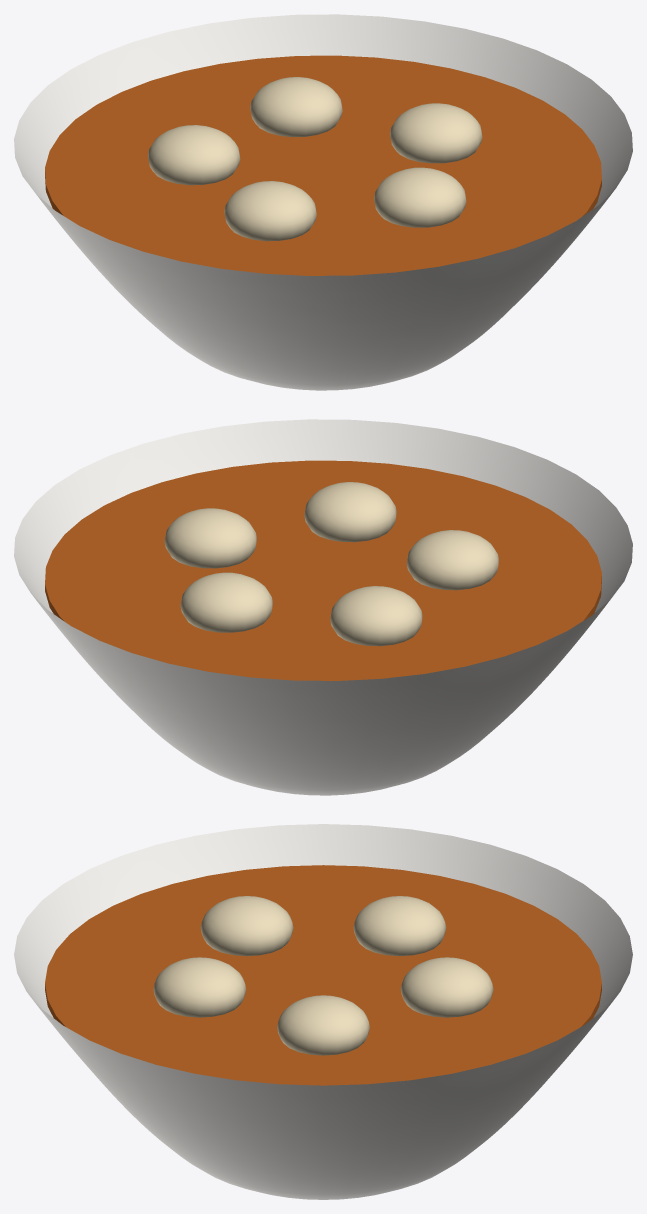
File: caldo-card.glb
3 views of the same model, one above another, from view 1: azimuth 30°, elevation 25°; view 2: azimuth 150°, elevation 25°; view 3: azimuth 270°, elevation 25° (orthographic).
Bounding box in the file's own units: 0.16 × 0.0572 × 0.16.
